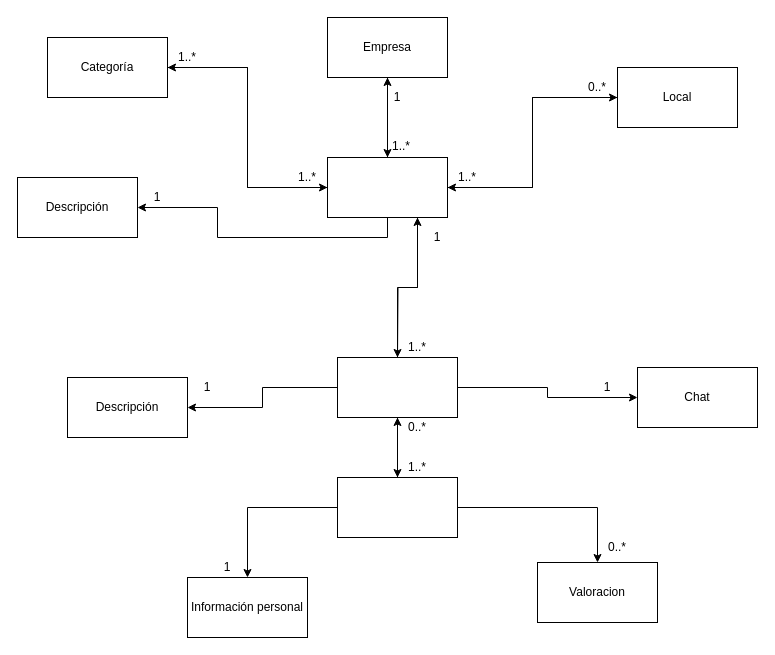
Image size: 775x655. Some labels were removed from this diagram. Here are the shapes that lost their labels. From the top down, the centre of each, then its label:
At pixel 387 187: "Juego".
At pixel 397 387: "Sala".
At pixel 397 507: "Usuario".
